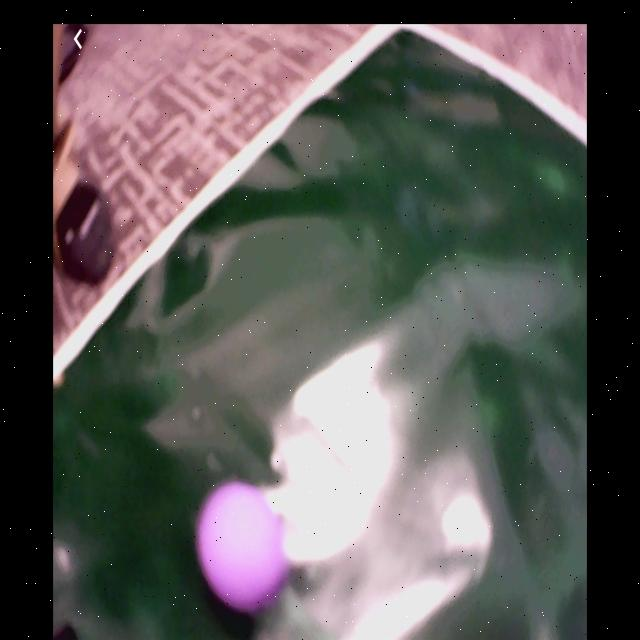ball: (199, 484, 285, 609)
